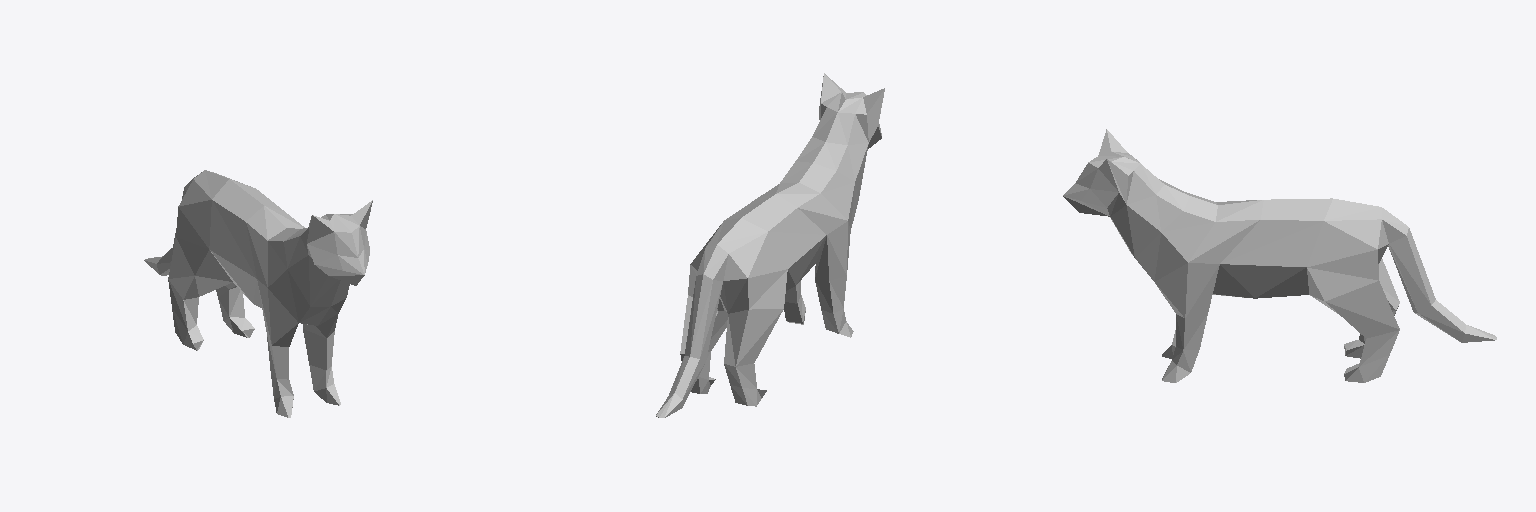
The model's file is ORIGAMI_Chat_Free.obj.
3 views of the same model, side by side, from view 1: azimuth 30°, elevation 25°; view 2: azimuth 150°, elevation 25°; view 3: azimuth 270°, elevation 25° (orthographic).
Visible parts, largest first — view 1: ORIGAMI_Chat; view 2: ORIGAMI_Chat; view 3: ORIGAMI_Chat.
Boxes of the visible parts, <box> form: ORIGAMI_Chat: <box>144,170,372,417</box>; ORIGAMI_Chat: <box>656,73,884,417</box>; ORIGAMI_Chat: <box>1063,129,1496,382</box>.
Bounding box in the file's own units: 12.69 × 35.28 × 61.89.